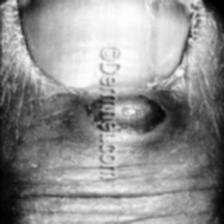Toxin: (88, 93, 170, 135)
